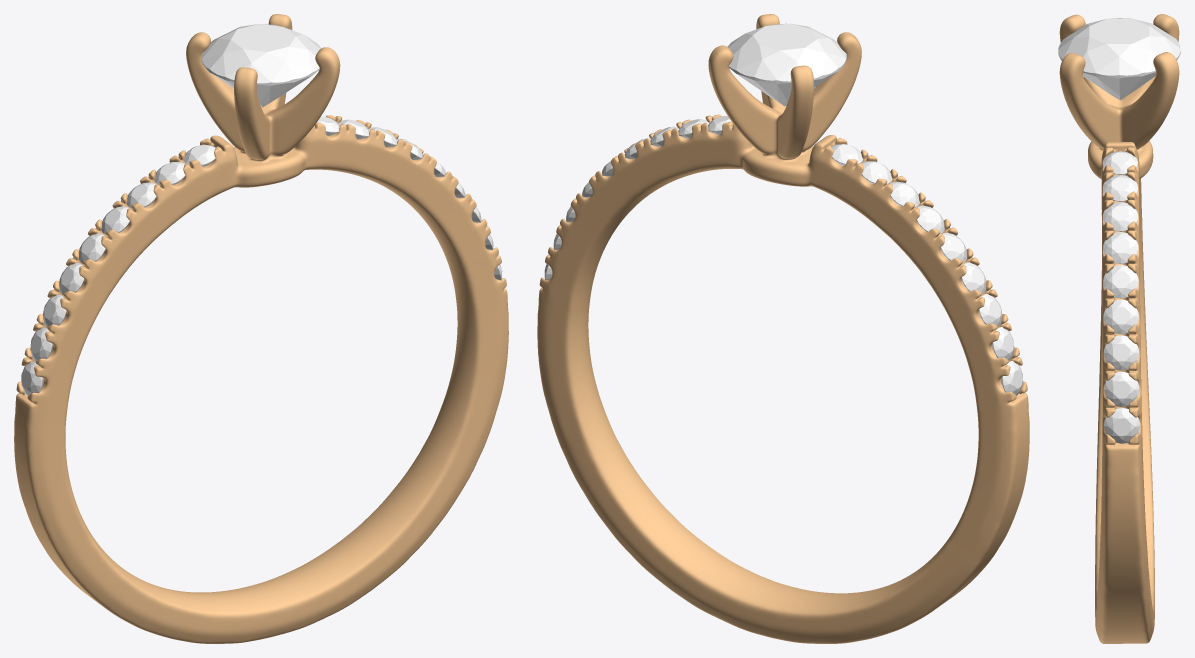
The picture shows the model from 3 angles, left to right: view 1: azimuth 30°, elevation 25°; view 2: azimuth 150°, elevation 25°; view 3: azimuth 270°, elevation 25°; orthographic projection.
Parts seen in each view (by area): view 1: 013dm, Diamond_Round_18; view 2: 013dm, Diamond_Round_18; view 3: 013dm, Diamond_Round_18, Diamond_Round_7, Diamond_Round_16, Diamond_Round_17, Diamond_Round_15, Diamond_Round_14, Diamond_Round_13, Diamond_Round_12, Diamond_Round_11, Diamond_Round_10.
Boxes of the visible parts, x1,y1,x2,y2 form: 013dm: [14, 14, 508, 643]; Diamond_Round_18: [201, 24, 321, 107]; 013dm: [537, 14, 1029, 643]; Diamond_Round_18: [727, 23, 846, 106]; 013dm: [1059, 14, 1179, 643]; Diamond_Round_18: [1058, 18, 1180, 99]; Diamond_Round_7: [1104, 408, 1140, 443]; Diamond_Round_16: [1104, 335, 1138, 370]; Diamond_Round_17: [1104, 372, 1139, 406]; Diamond_Round_15: [1103, 299, 1138, 334]; Diamond_Round_14: [1103, 265, 1138, 298]; Diamond_Round_13: [1103, 232, 1138, 263]; Diamond_Round_12: [1103, 202, 1138, 231]; Diamond_Round_11: [1102, 175, 1137, 201]; Diamond_Round_10: [1102, 151, 1137, 174].
Bounding box in the file's own units: 2.56 × 3.01 × 0.5698.
